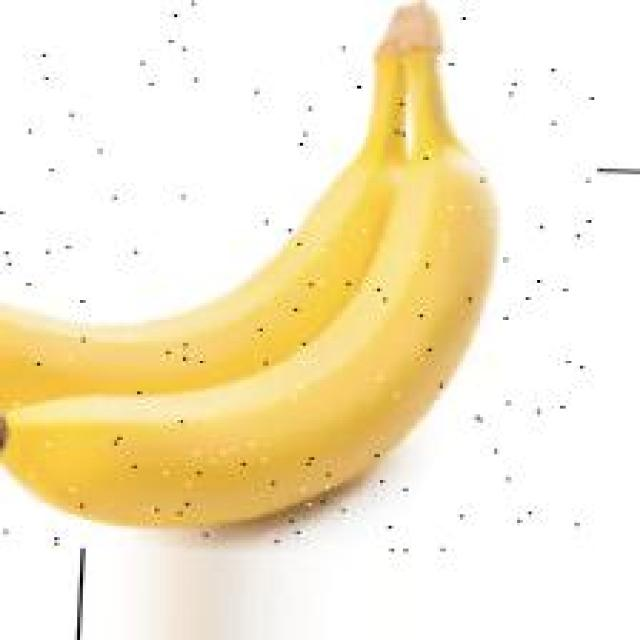banana: (2, 20, 512, 575)
